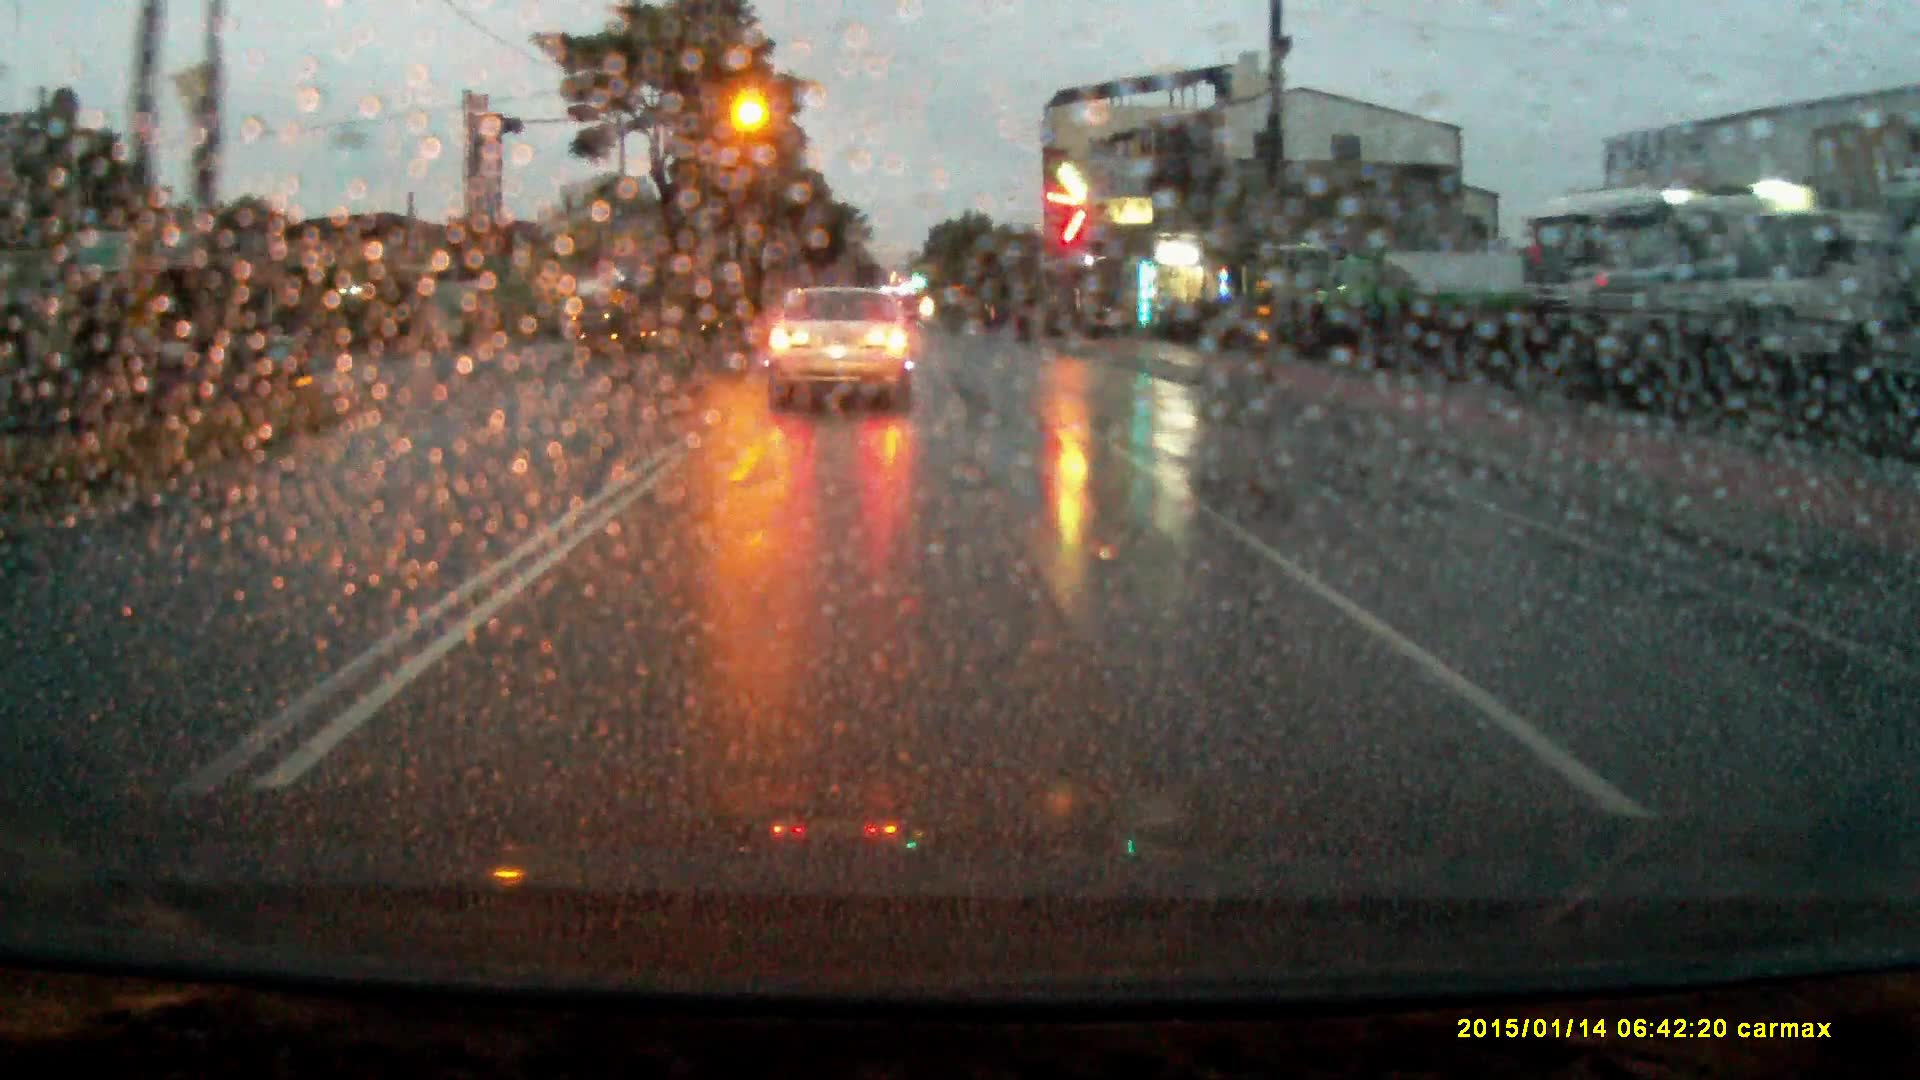vehicle: (1729, 210, 1894, 430), (1527, 189, 1684, 389), (767, 286, 920, 413), (1317, 251, 1511, 342), (1257, 241, 1342, 338), (568, 277, 626, 332)
